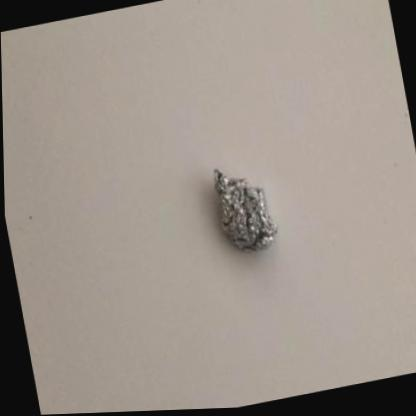Metal: (213, 170, 275, 253)
